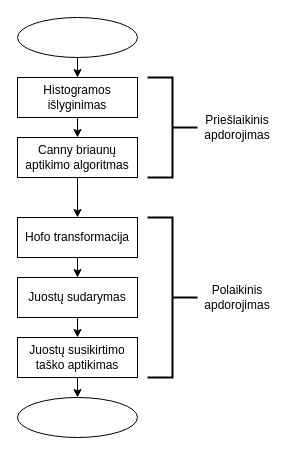
Image size: 300x455. Some labels were removed from this diagram. The shapes that lost their labels are listed below. From the top down, each one's box as (x1, y1, x2, y2) in pixels, then its label:
(16, 16, 138, 58): Nuotrauka
(16, 396, 138, 438): Analizė
